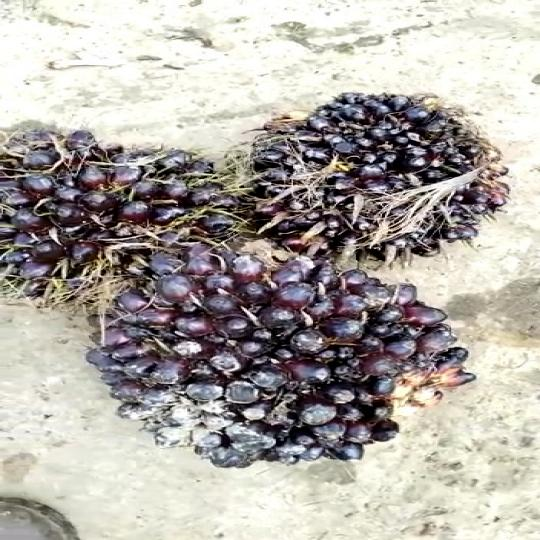mentah: (87, 239, 504, 477), (234, 75, 516, 284), (0, 113, 252, 298)
